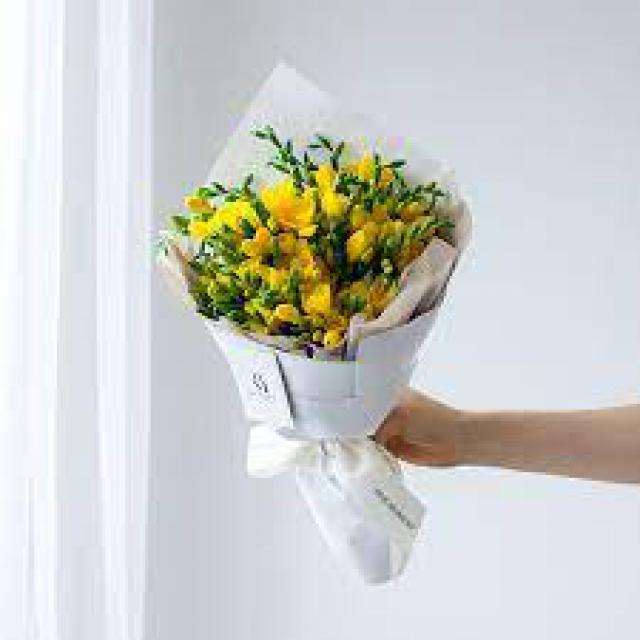freesia: (259, 180, 324, 234), (189, 194, 252, 240), (340, 216, 386, 268), (294, 268, 332, 323)
